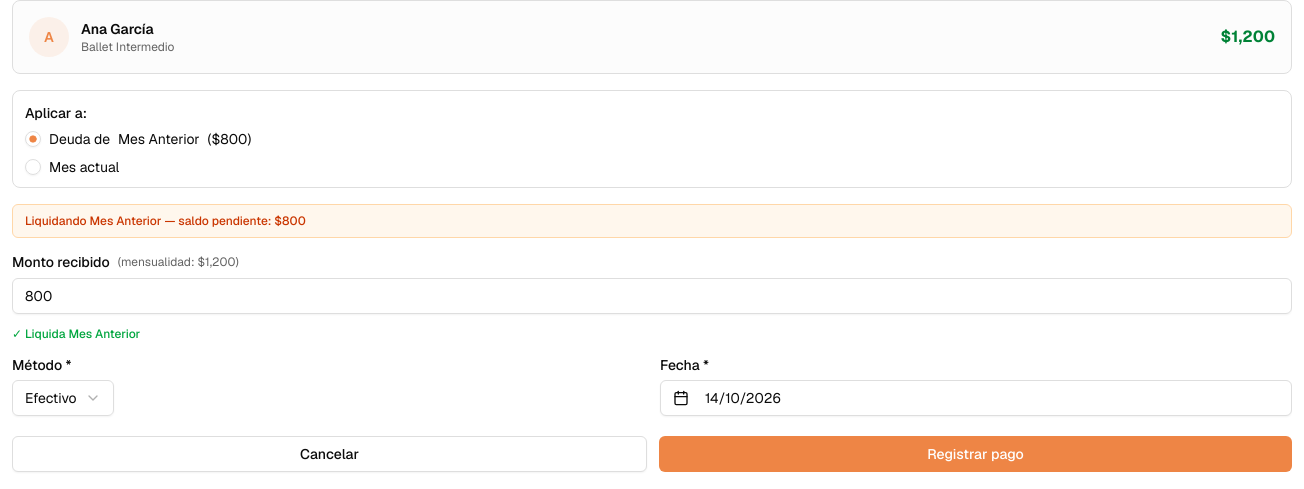
Scenario: RegisterPaymentForm › al elegir 'Mes actual' en el selector, refetch con target='current' y re-prellena el monto
Check: the text "Aplicar a:" is shown, box 25,104 -> 87,122
Check: the number field labelled "Monto recibido (mensualidad: $1,200)" holds "800", box 12,278 -> 1292,314
Click the radio button named "Mes actual" next to "Mes actual".
click(33, 167)  # box 25,159 -> 41,175
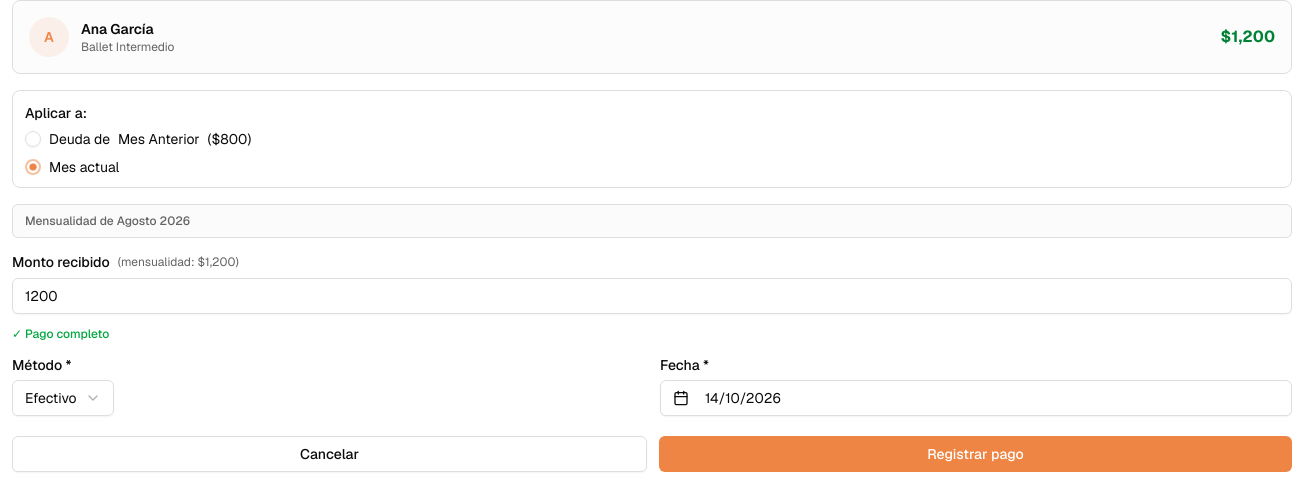
Check: the text "mes anterior" is shown, box 118,132 -> 200,146
Check: the number field labelled "Monto recibido (mensualidad: $1,200)" holds "1200", box 12,278 -> 1292,314
